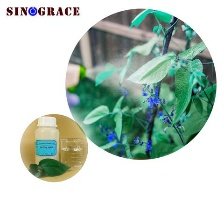insecticide: (33, 114, 61, 171)
